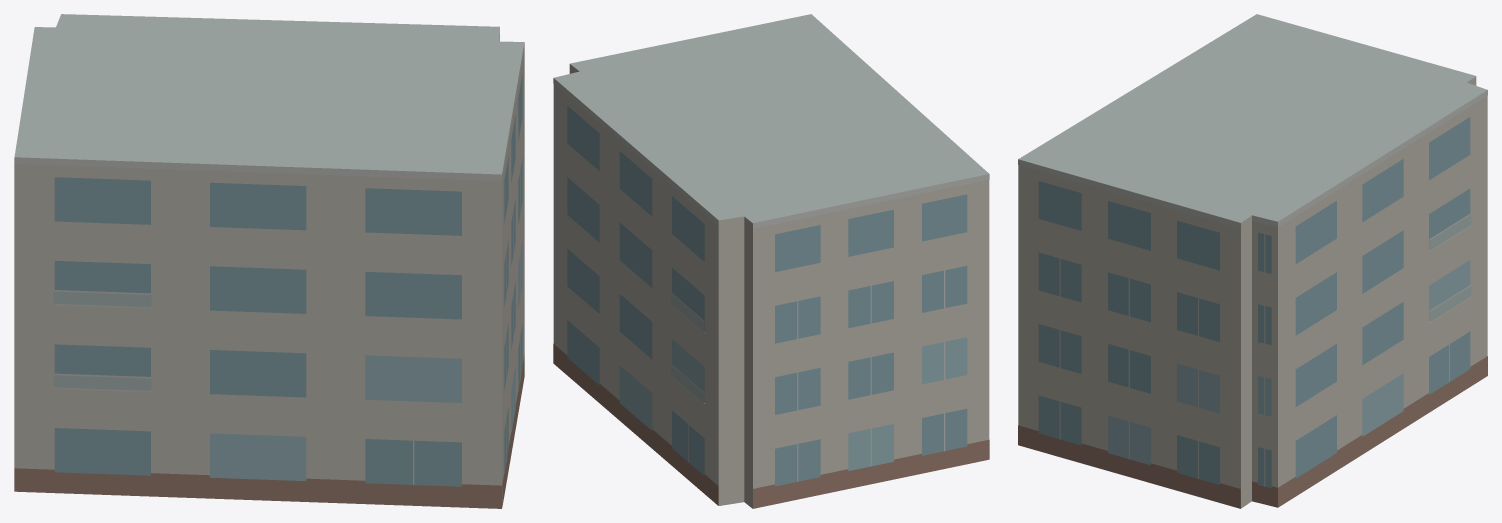
Rendered from survey-upis-32884118.glb.
The picture shows the model from 3 angles, left to right: view 1: azimuth 30°, elevation 25°; view 2: azimuth 150°, elevation 25°; view 3: azimuth 270°, elevation 25°; orthographic projection. The views are drawn at different scales.
Visible parts, largest first — view 1: survey-upis-32884118.tmp; view 2: survey-upis-32884118.tmp; view 3: survey-upis-32884118.tmp.
Part boxes in pixels (x1,y1,x2,y2): survey-upis-32884118.tmp: (14, 14, 524, 508); survey-upis-32884118.tmp: (553, 14, 989, 508); survey-upis-32884118.tmp: (1018, 14, 1487, 508).
Bounding box in the file's own units: 19.13 × 12.2 × 18.17.
